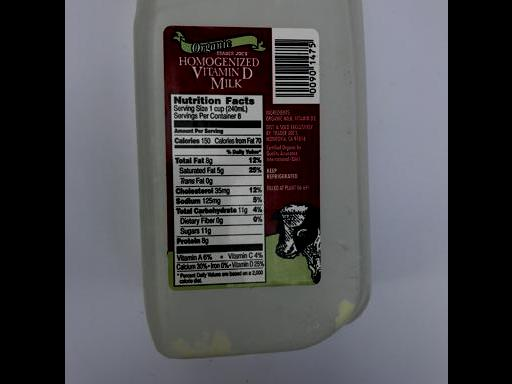bottle: (137, 145, 372, 156)
